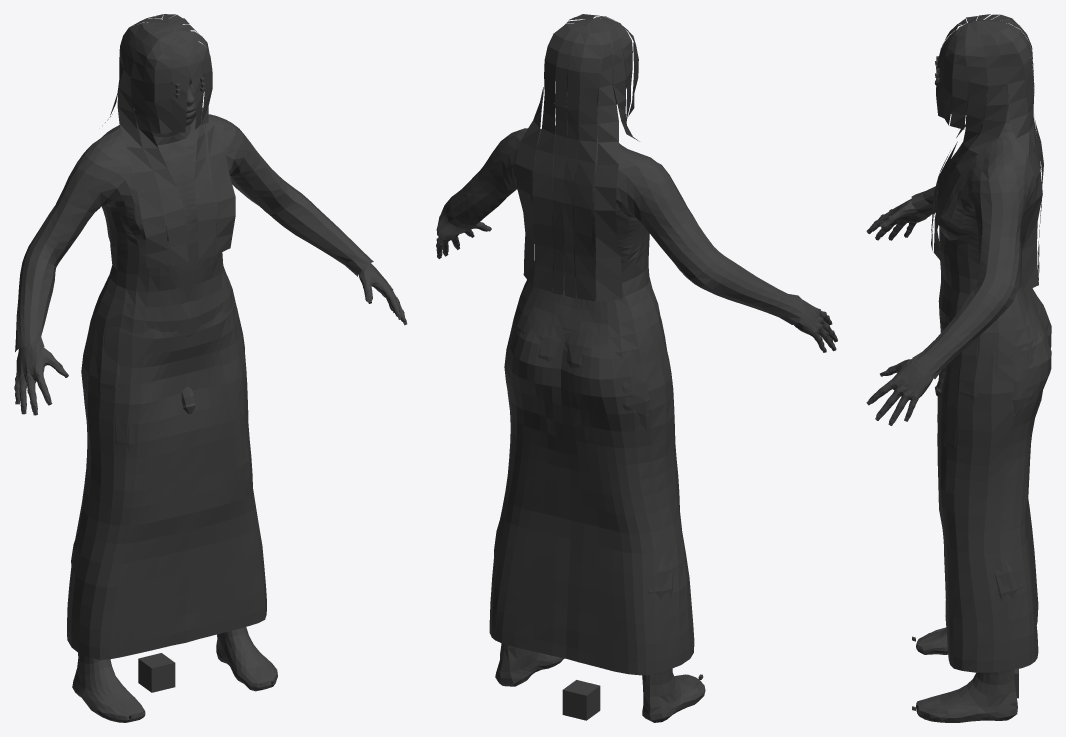
The model's file is male.glb.
3 views of the same model, side by side, from view 1: azimuth 30°, elevation 25°; view 2: azimuth 150°, elevation 25°; view 3: azimuth 270°, elevation 25° (orthographic). The views are drawn at different scales.
Visible parts, largest first — view 1: vitals_male; view 2: vitals_male; view 3: vitals_male.
Part boxes in pixels (x1,y1,x2,y2): vitals_male: (14, 14, 407, 722); vitals_male: (436, 14, 837, 722); vitals_male: (866, 14, 1051, 722).
Size of the model in its own units: 1.04 by 1.74 by 0.4345.
Materials: 1 (1 with a texture image).
